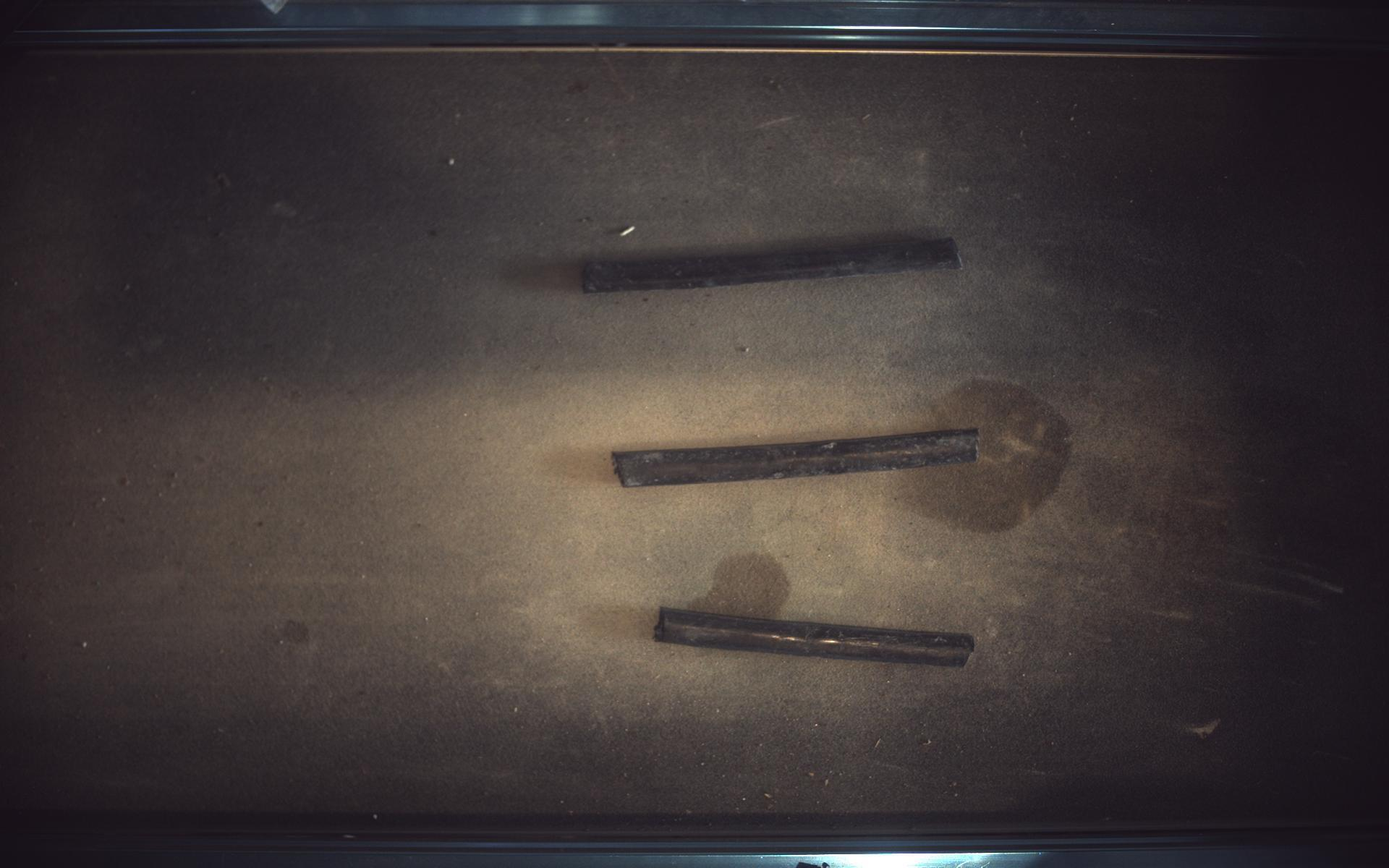pipes: (613, 428, 981, 488), (583, 237, 964, 293), (655, 608, 976, 668)
